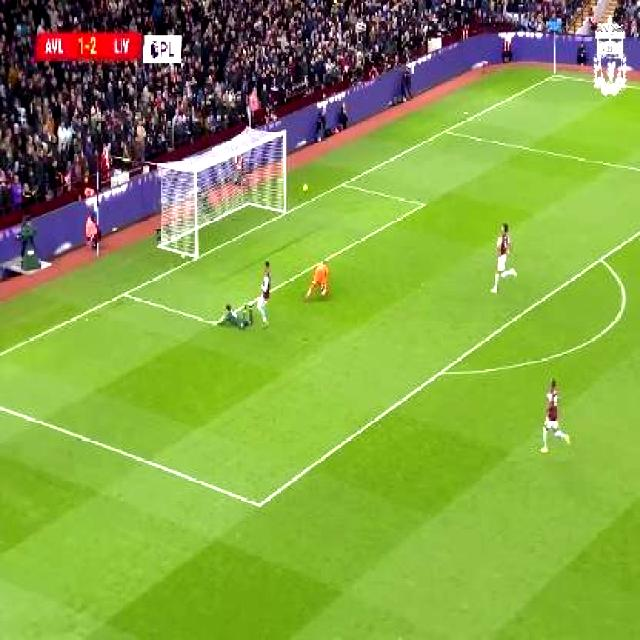bigarea_bottom_inner: (248, 489, 269, 520)
bigarea_top_outter: (437, 120, 454, 138)
bottom_arc_area_intersection: (431, 359, 451, 383)
corner: (545, 66, 566, 82)
smallarea_bottom_inner: (205, 310, 223, 336)
smallarea_bottom_outter: (114, 280, 134, 305)
smallarea_top_inner: (412, 192, 432, 215)
smallarea_top_outter: (334, 172, 351, 194)
top_arc_area_intersection: (592, 248, 610, 268)
